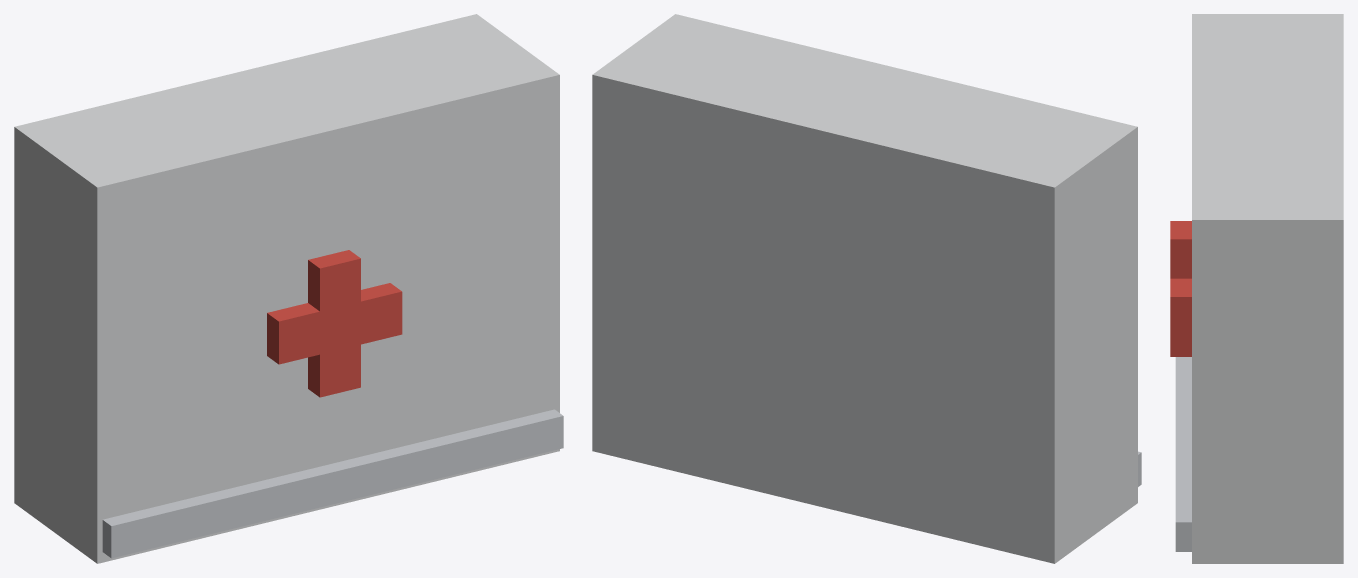
File: SM_Medkit_Wall.glb
The picture shows the model from 3 angles, left to right: view 1: azimuth 30°, elevation 25°; view 2: azimuth 150°, elevation 25°; view 3: azimuth 270°, elevation 25°; orthographic projection. The views are drawn at different scales.
Parts seen in each view (by area): view 1: SM_Medkit_Wall; view 2: SM_Medkit_Wall; view 3: SM_Medkit_Wall.
Boxes of the visible parts, left/top/right/bottom form: SM_Medkit_Wall: left=14, top=14, right=563, bottom=563; SM_Medkit_Wall: left=592, top=14, right=1141, bottom=563; SM_Medkit_Wall: left=1170, top=14, right=1343, bottom=563.
Bounding box in the file's own units: 0.45 × 0.35 × 0.16.
